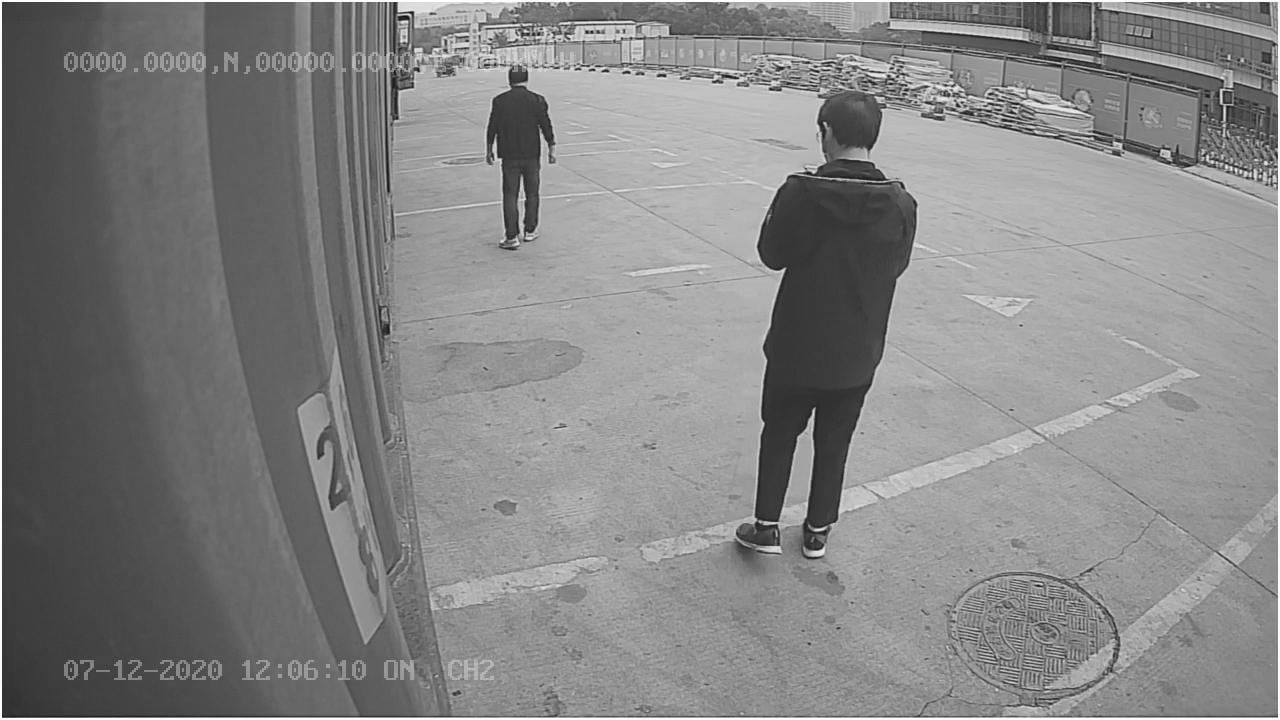person: (732, 87, 925, 556)
